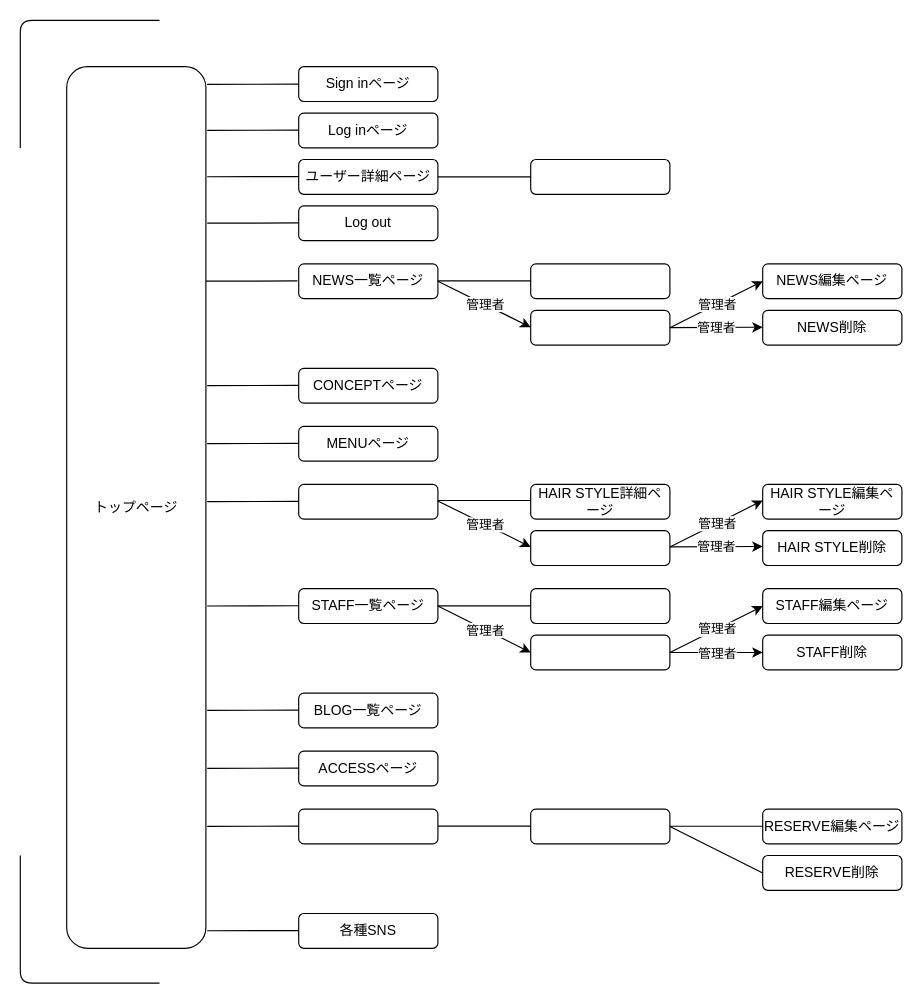
This 922x1005 diagram has some shape labels left out. Here are the shapes that lost their labels. From the top down, the centre of each, then its label:
At point (600, 176): "ユーザー編集ページ".
At point (600, 281): "NEWS詳細ページ".
At point (600, 327): "NEWS投稿ページ".
At point (368, 501): "HAIR STYLE一覧ページ".
At point (600, 548): "HAIR STYLE登録ページ".
At point (600, 606): "STAFF詳細ページ".
At point (600, 652): "STAFF登録ページ".
At point (368, 826): "RESERVE登録ページ".
At point (600, 826): "RESERVE詳細ページ".
